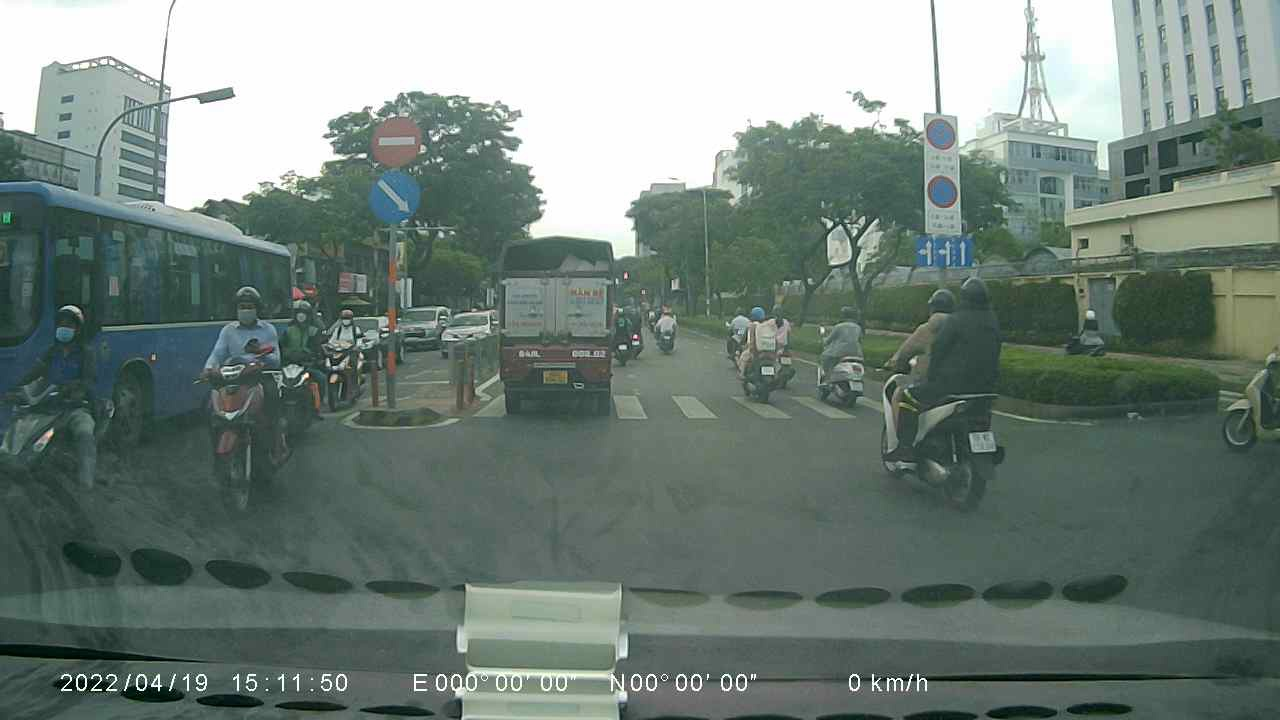Bien khac: (913, 232, 976, 271), (926, 112, 960, 153)
Cam di nguoc chieu: (371, 114, 426, 166)
Cam do xe: (924, 172, 960, 207)
Huong di phai re phai: (368, 172, 418, 221)
